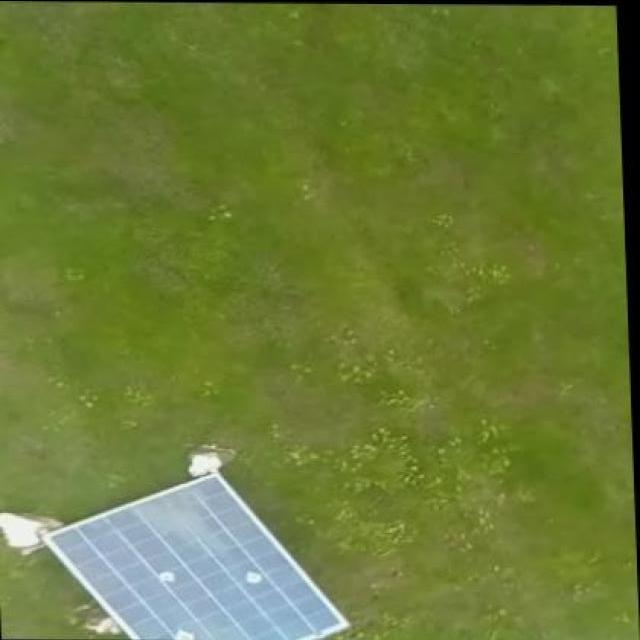soiled: (47, 476, 358, 636)
